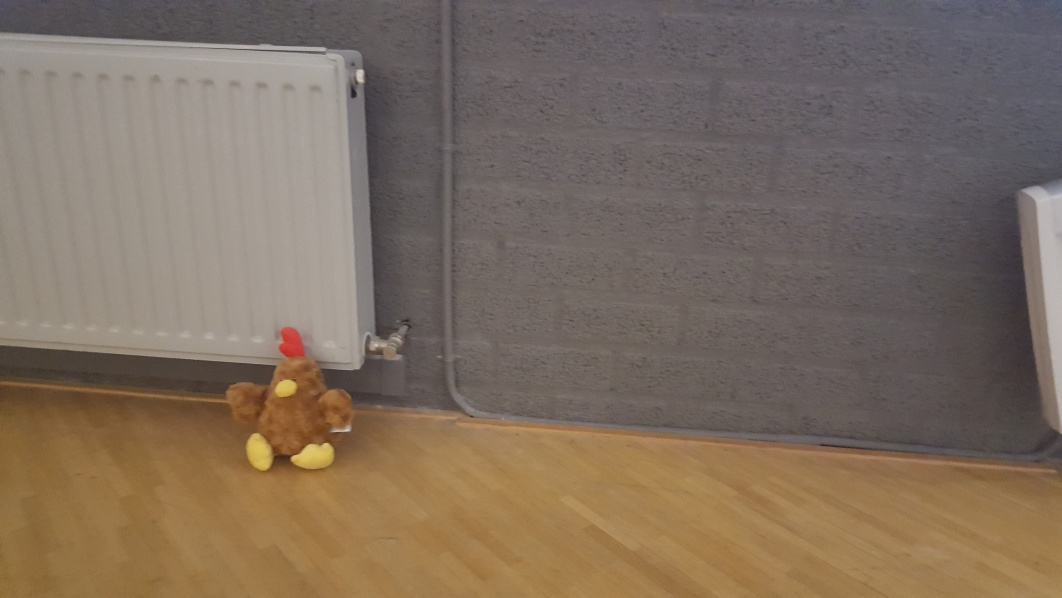chicken: (225, 328, 353, 480)
